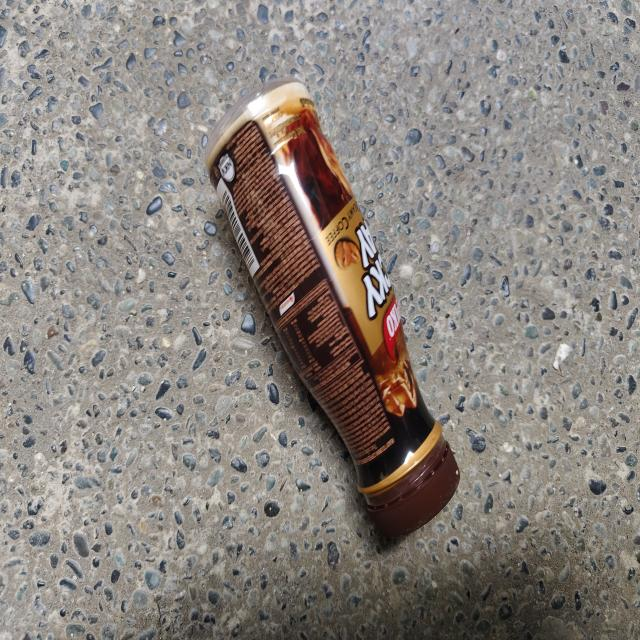Bottle: (206, 78, 460, 538)
